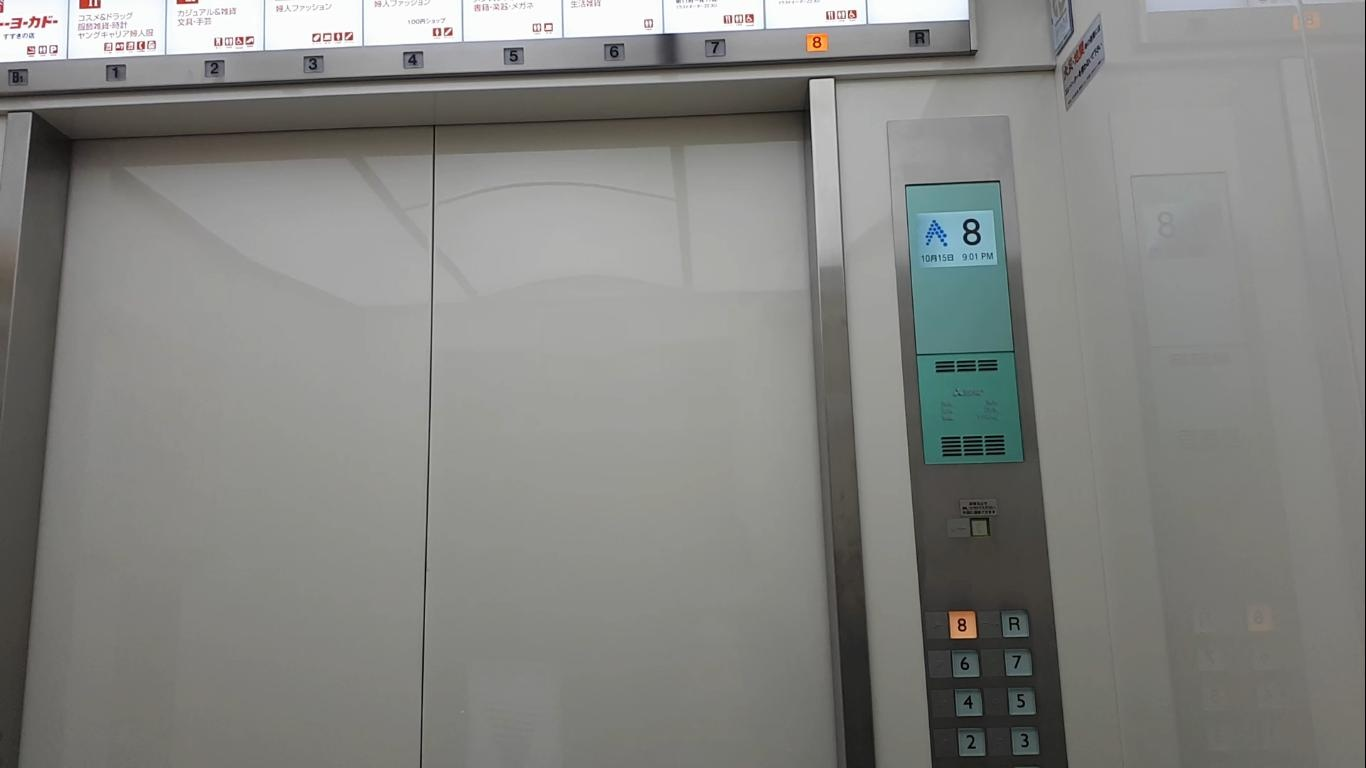1: (104, 61, 128, 82)
2: (956, 726, 989, 759), (202, 57, 227, 79)
3: (1010, 725, 1041, 756), (300, 53, 326, 74)
4: (953, 687, 985, 717), (400, 48, 427, 70)
5: (1005, 685, 1039, 717), (499, 45, 527, 68)
6: (948, 647, 983, 681), (601, 41, 626, 62)
7: (1001, 646, 1035, 679), (705, 39, 726, 56)
8: (946, 608, 980, 642), (802, 29, 831, 55)
B1: (6, 66, 30, 87)
R: (999, 608, 1032, 640), (904, 25, 936, 51)
empty: (967, 513, 994, 540)
led: (916, 208, 998, 271)
